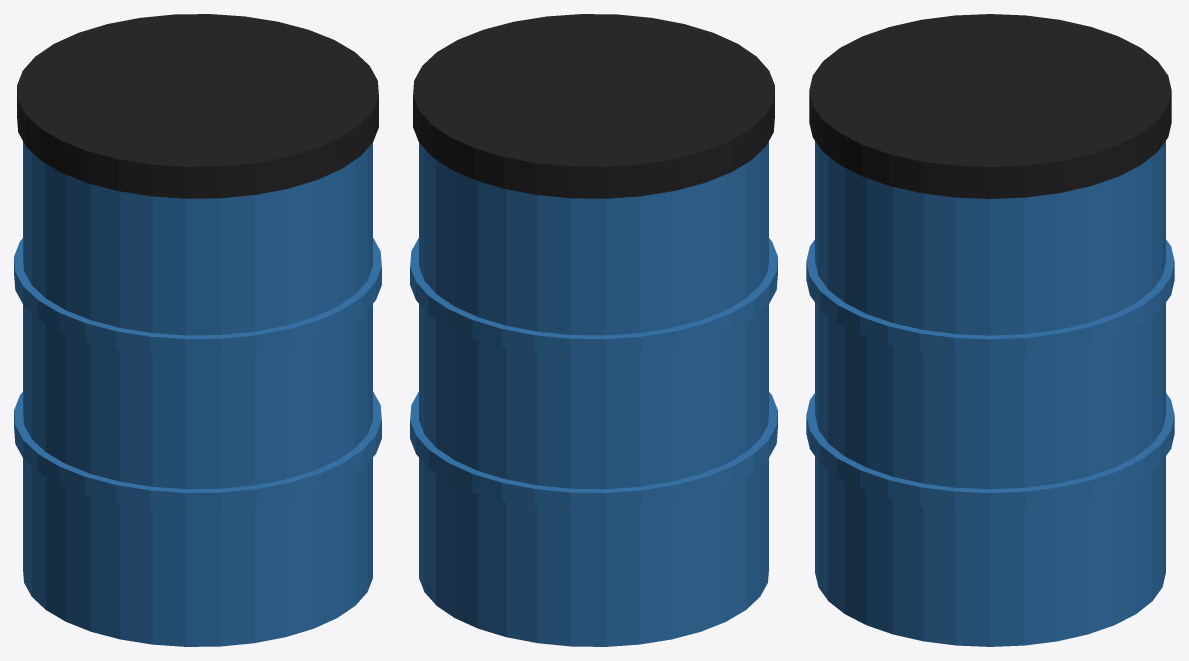
The model's file is plastic_barrel.glb.
3 renders of one model, left to right at view 1: azimuth 30°, elevation 25°; view 2: azimuth 150°, elevation 25°; view 3: azimuth 270°, elevation 25°, orthographic.
Visible parts, largest first — view 1: PlasticBarrel; view 2: PlasticBarrel; view 3: PlasticBarrel.
Boxes of the visible parts, x1,y1,x2,y2 form: PlasticBarrel: [14, 14, 381, 646]; PlasticBarrel: [410, 14, 777, 646]; PlasticBarrel: [806, 14, 1174, 646].
Bounding box in the file's own units: 0.63 × 0.91 × 0.63.
